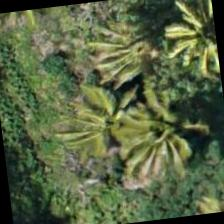Kelapa_Sawit: (58, 61, 158, 162), (109, 77, 209, 176), (93, 0, 194, 94), (154, 0, 220, 82)
